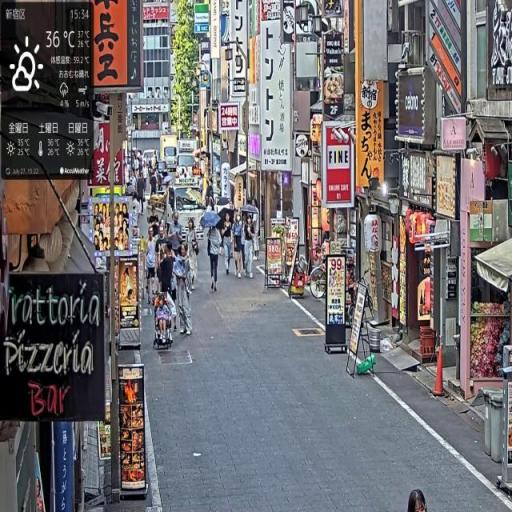person: (173, 243, 195, 336), (208, 220, 224, 292), (187, 217, 201, 291), (222, 212, 235, 277)
